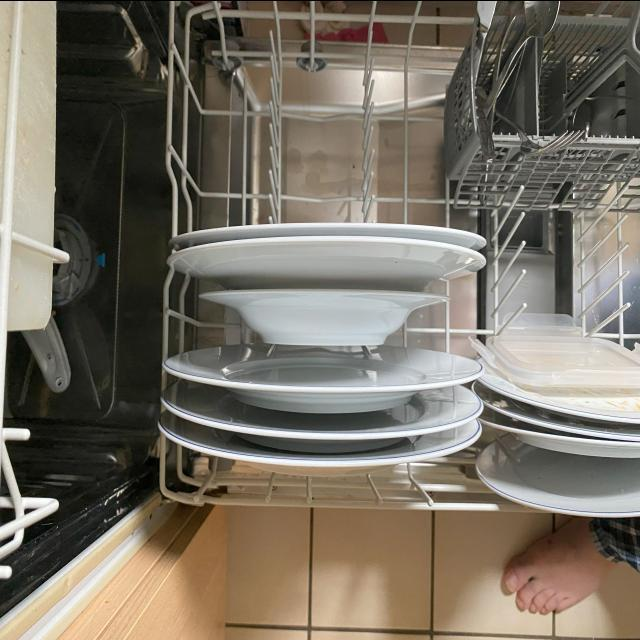clutery_bin: (475, 1, 636, 143)
empty_slot: (198, 18, 437, 209), (489, 199, 640, 323)
